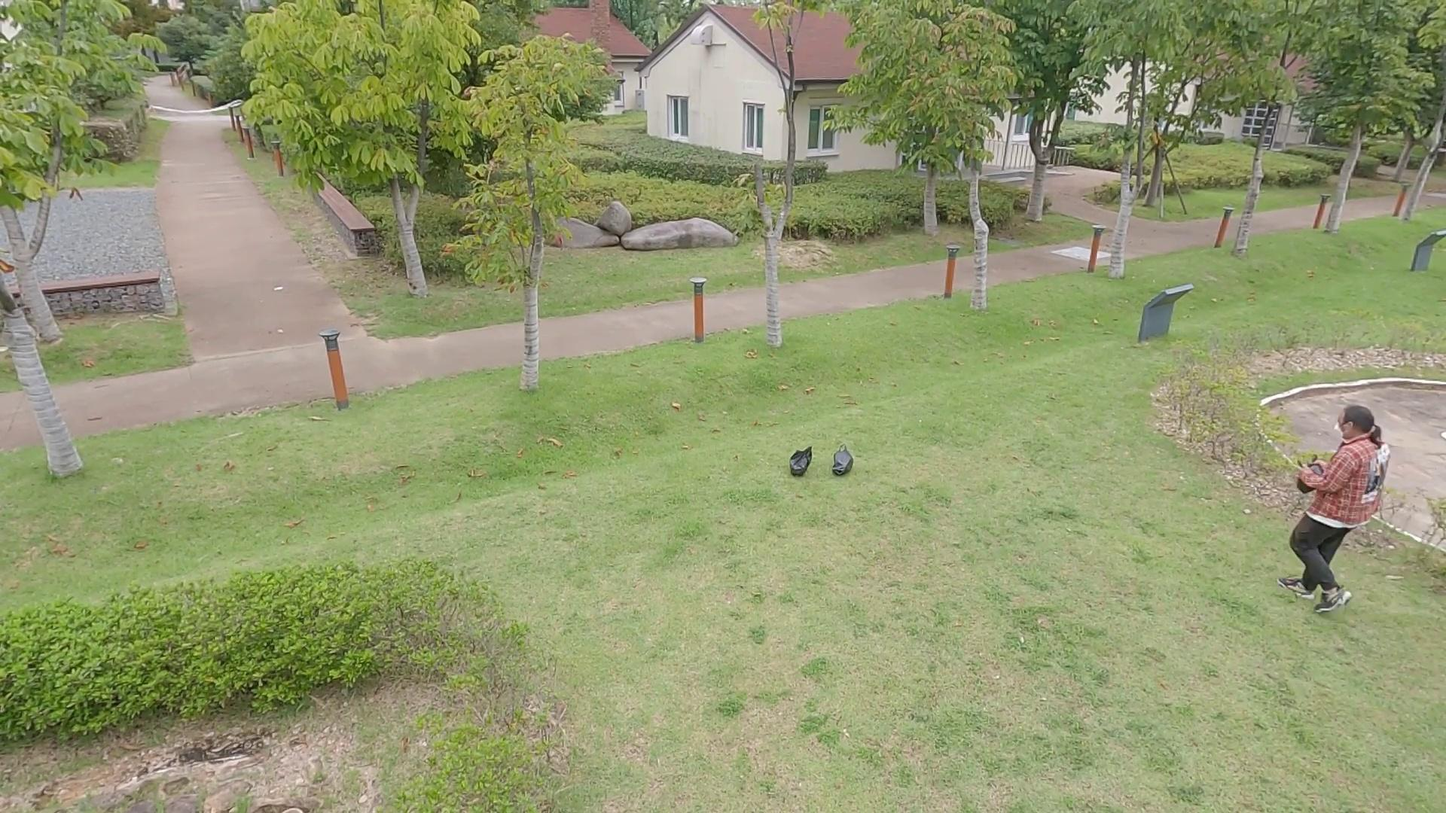person: (1281, 399, 1391, 615)
trash: (1287, 449, 1329, 496), (786, 444, 815, 476), (831, 444, 856, 478)
